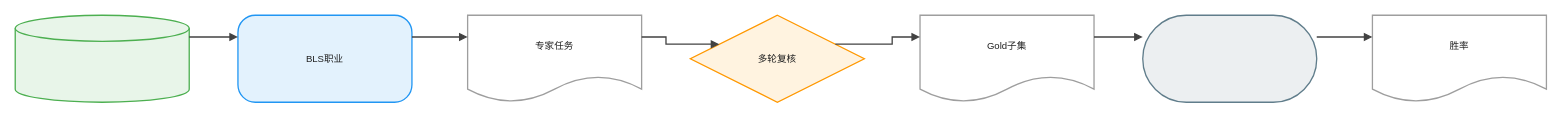
Image size: 1563x118. Some labels were removed from this diagram. The centre of each missing label's shape, as x and y in pixels:
"GDP行业" belongs at pixel 101 58.
"成对评审" belongs at pixel 1229 58.
